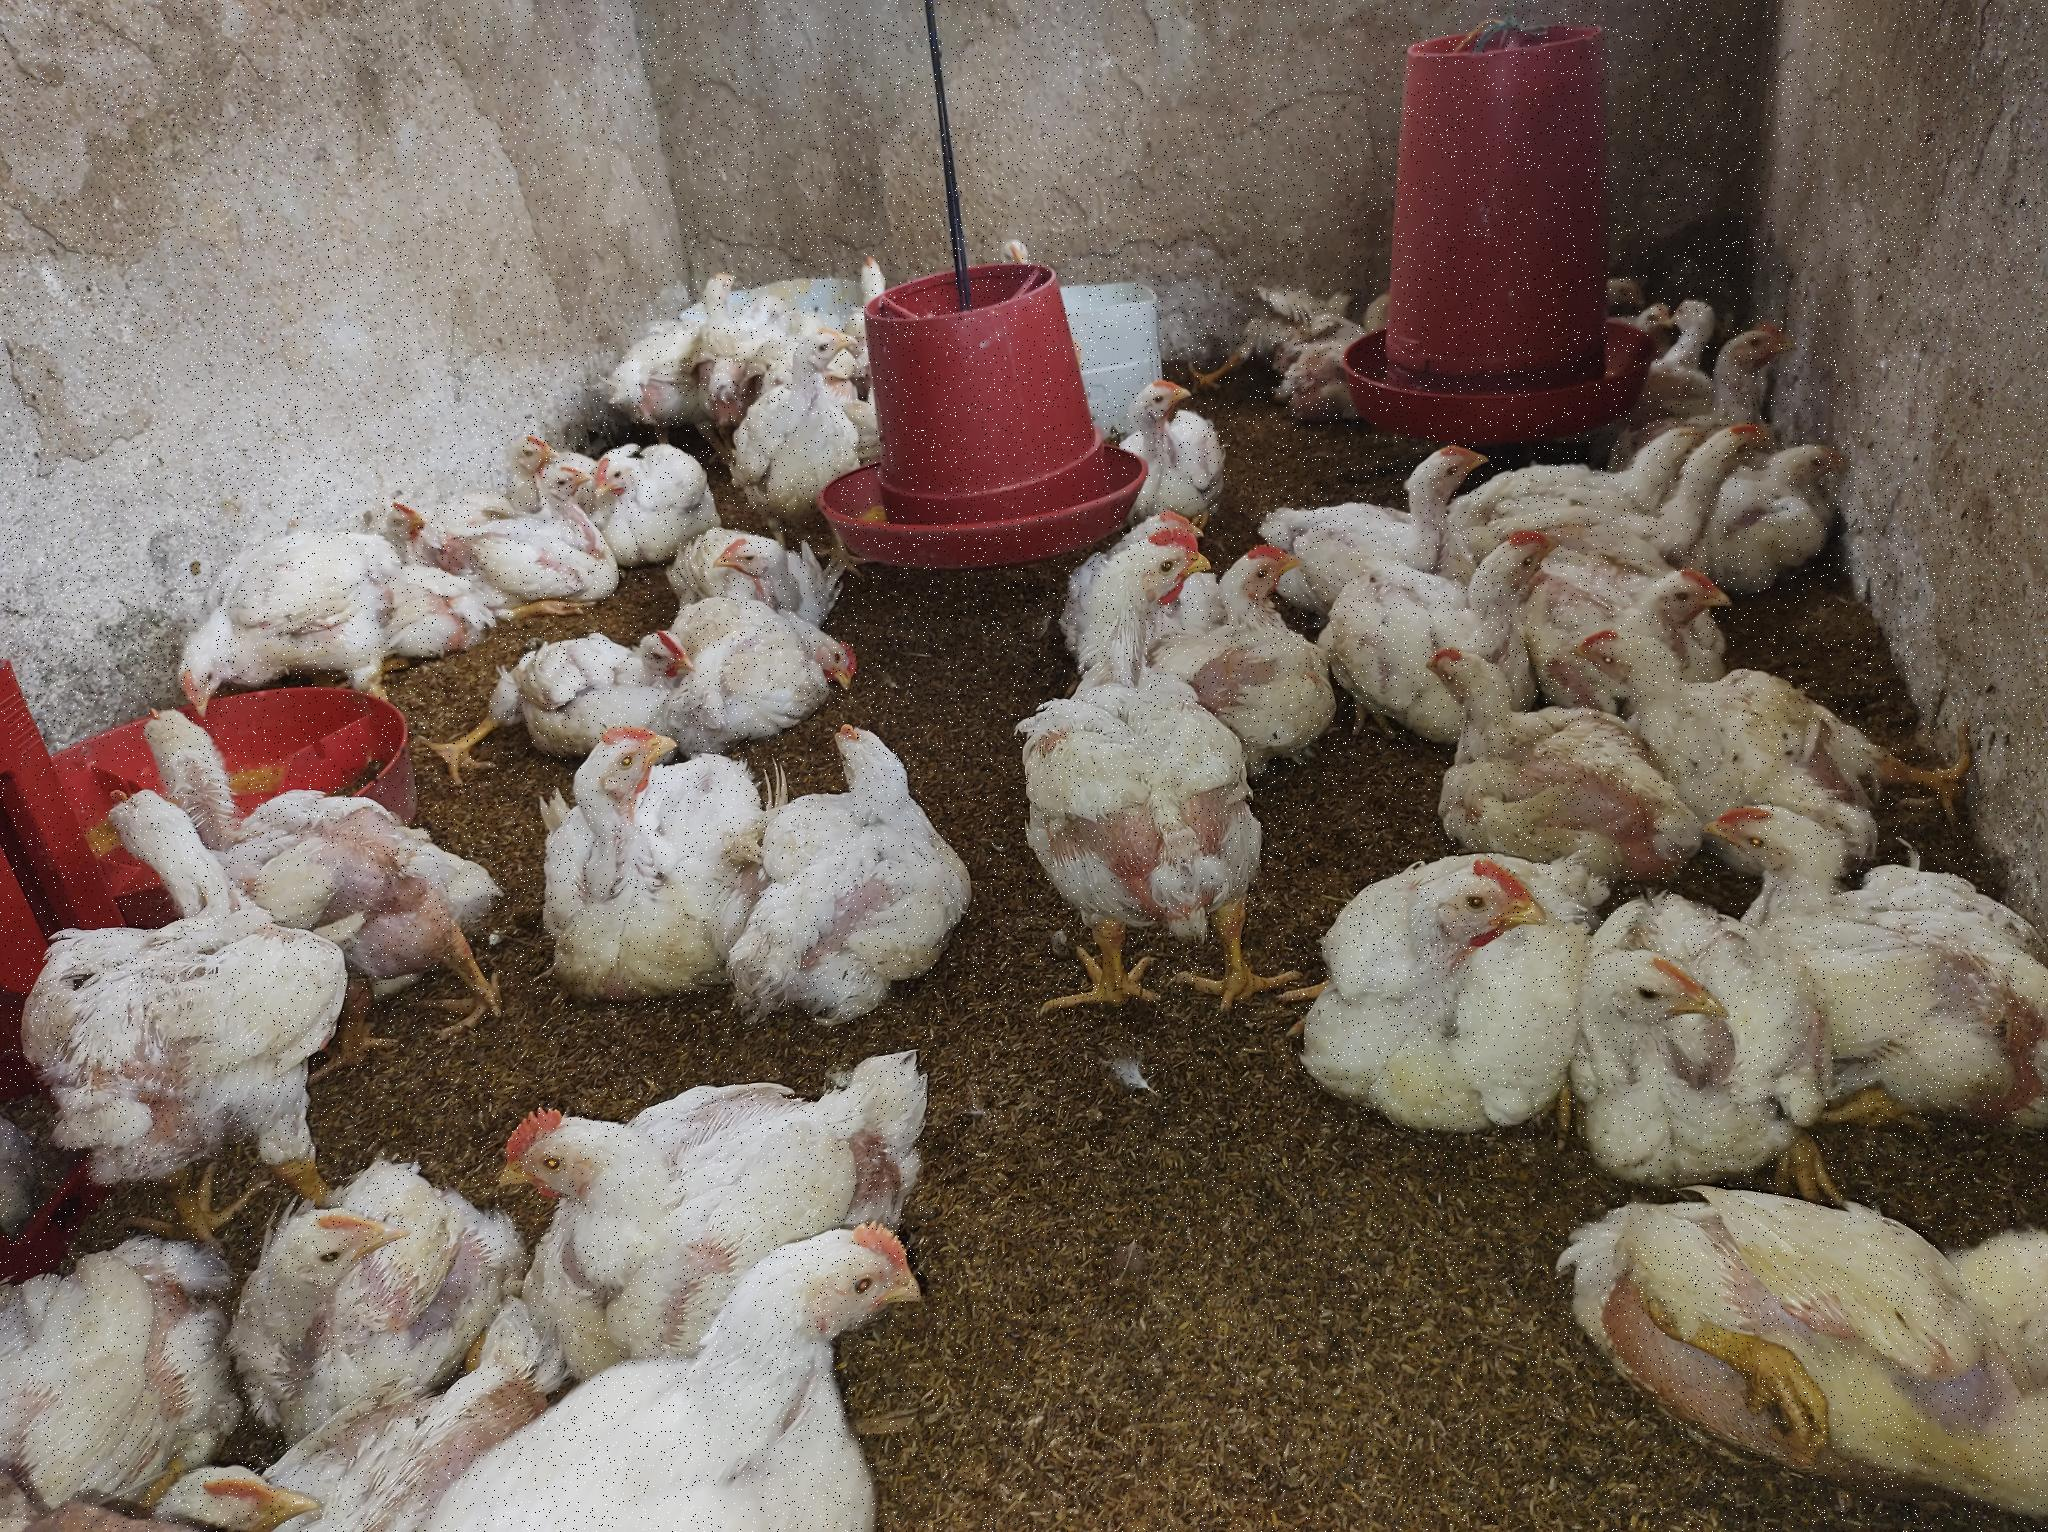Pollos: (1562, 1194, 2048, 1526), (18, 792, 343, 1176), (537, 1234, 923, 1532), (1028, 536, 1266, 1012), (1720, 811, 2042, 1157), (142, 706, 487, 1022), (1586, 626, 1988, 888), (491, 1059, 957, 1281), (1305, 859, 1572, 1130), (241, 1189, 547, 1418), (1565, 888, 1803, 1175), (1417, 650, 1689, 892), (6, 1221, 235, 1503), (742, 727, 973, 995), (528, 715, 738, 990), (1327, 528, 1561, 719), (129, 1411, 507, 1522), (180, 552, 405, 700), (1277, 438, 1488, 574), (1213, 521, 1334, 735), (489, 616, 684, 737), (737, 327, 861, 510), (360, 489, 492, 649), (605, 266, 751, 407), (684, 629, 878, 732), (484, 470, 635, 599), (668, 526, 845, 629), (1586, 563, 1746, 663), (586, 451, 722, 558), (1110, 380, 1226, 502), (1287, 291, 1396, 417), (1747, 446, 1853, 566), (1713, 312, 1805, 420), (1614, 410, 1705, 499), (1702, 410, 1778, 472), (476, 426, 571, 472), (1248, 285, 1364, 319), (1676, 288, 1715, 388), (851, 251, 907, 319), (1123, 504, 1219, 541), (1604, 262, 1652, 311), (999, 225, 1036, 275), (1625, 306, 1673, 340)
